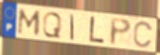C: (133, 20, 154, 49)
I: (70, 13, 75, 41)
L: (89, 16, 106, 44)
M: (16, 8, 43, 37)
P: (109, 17, 133, 47)
Q: (41, 11, 63, 39)
